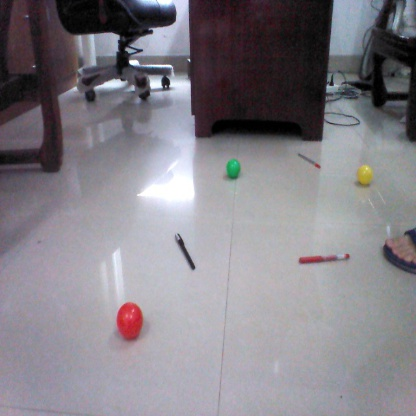ball: (112, 301, 143, 341), (354, 165, 377, 188), (223, 158, 244, 179)
pen: (175, 233, 199, 269), (298, 254, 353, 264), (296, 152, 324, 168)
